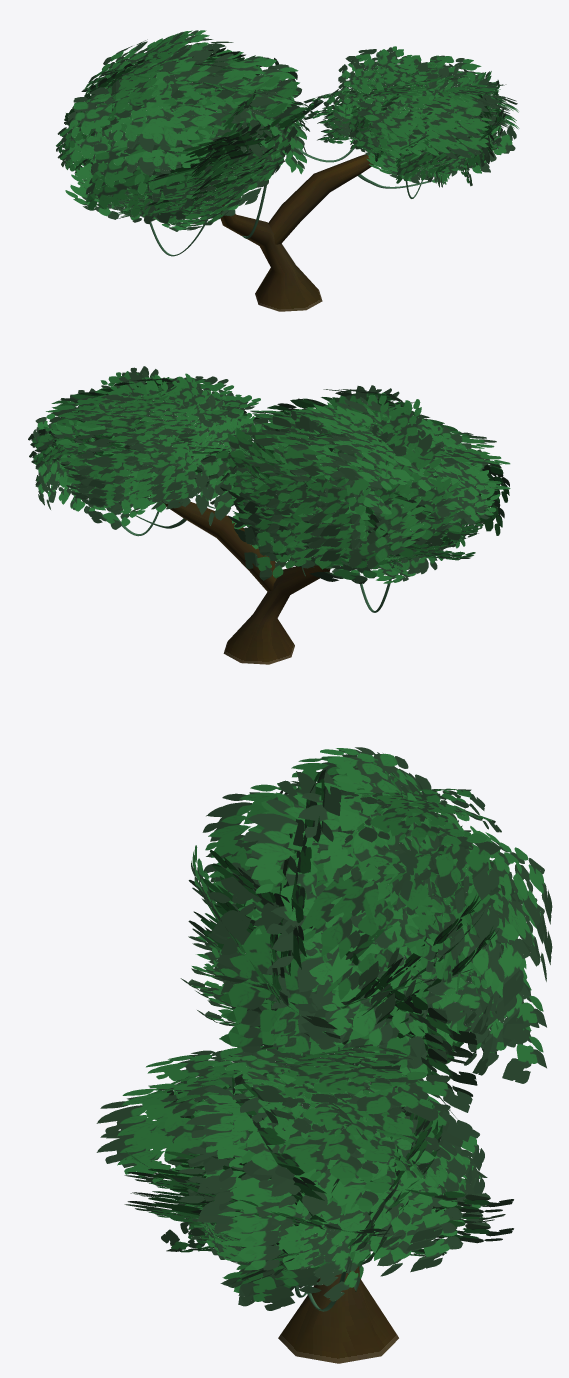
Rendered from Tree 2.fbx.
The picture shows the model from 3 angles, top to bottom: view 1: azimuth 30°, elevation 25°; view 2: azimuth 150°, elevation 25°; view 3: azimuth 270°, elevation 25°; orthographic projection. The views are drawn at different scales.
Visible parts, largest first — view 1: pasted__pasted__pasted__polySurface6; view 2: pasted__pasted__pasted__polySurface6; view 3: pasted__pasted__pasted__polySurface6.
Part boxes in pixels (bbox=[...]): pasted__pasted__pasted__polySurface6: bbox=[56, 30, 519, 311]; pasted__pasted__pasted__polySurface6: bbox=[28, 366, 510, 664]; pasted__pasted__pasted__polySurface6: bbox=[96, 747, 552, 1363].
Bounding box in the file's own units: 10.16 × 5.77 × 5.8.
Materials: 5 (3 with a texture image).
